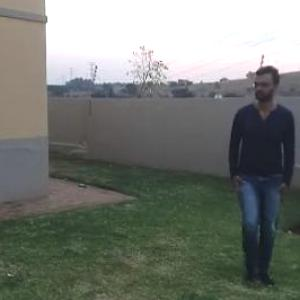follow: (221, 60, 281, 272)
